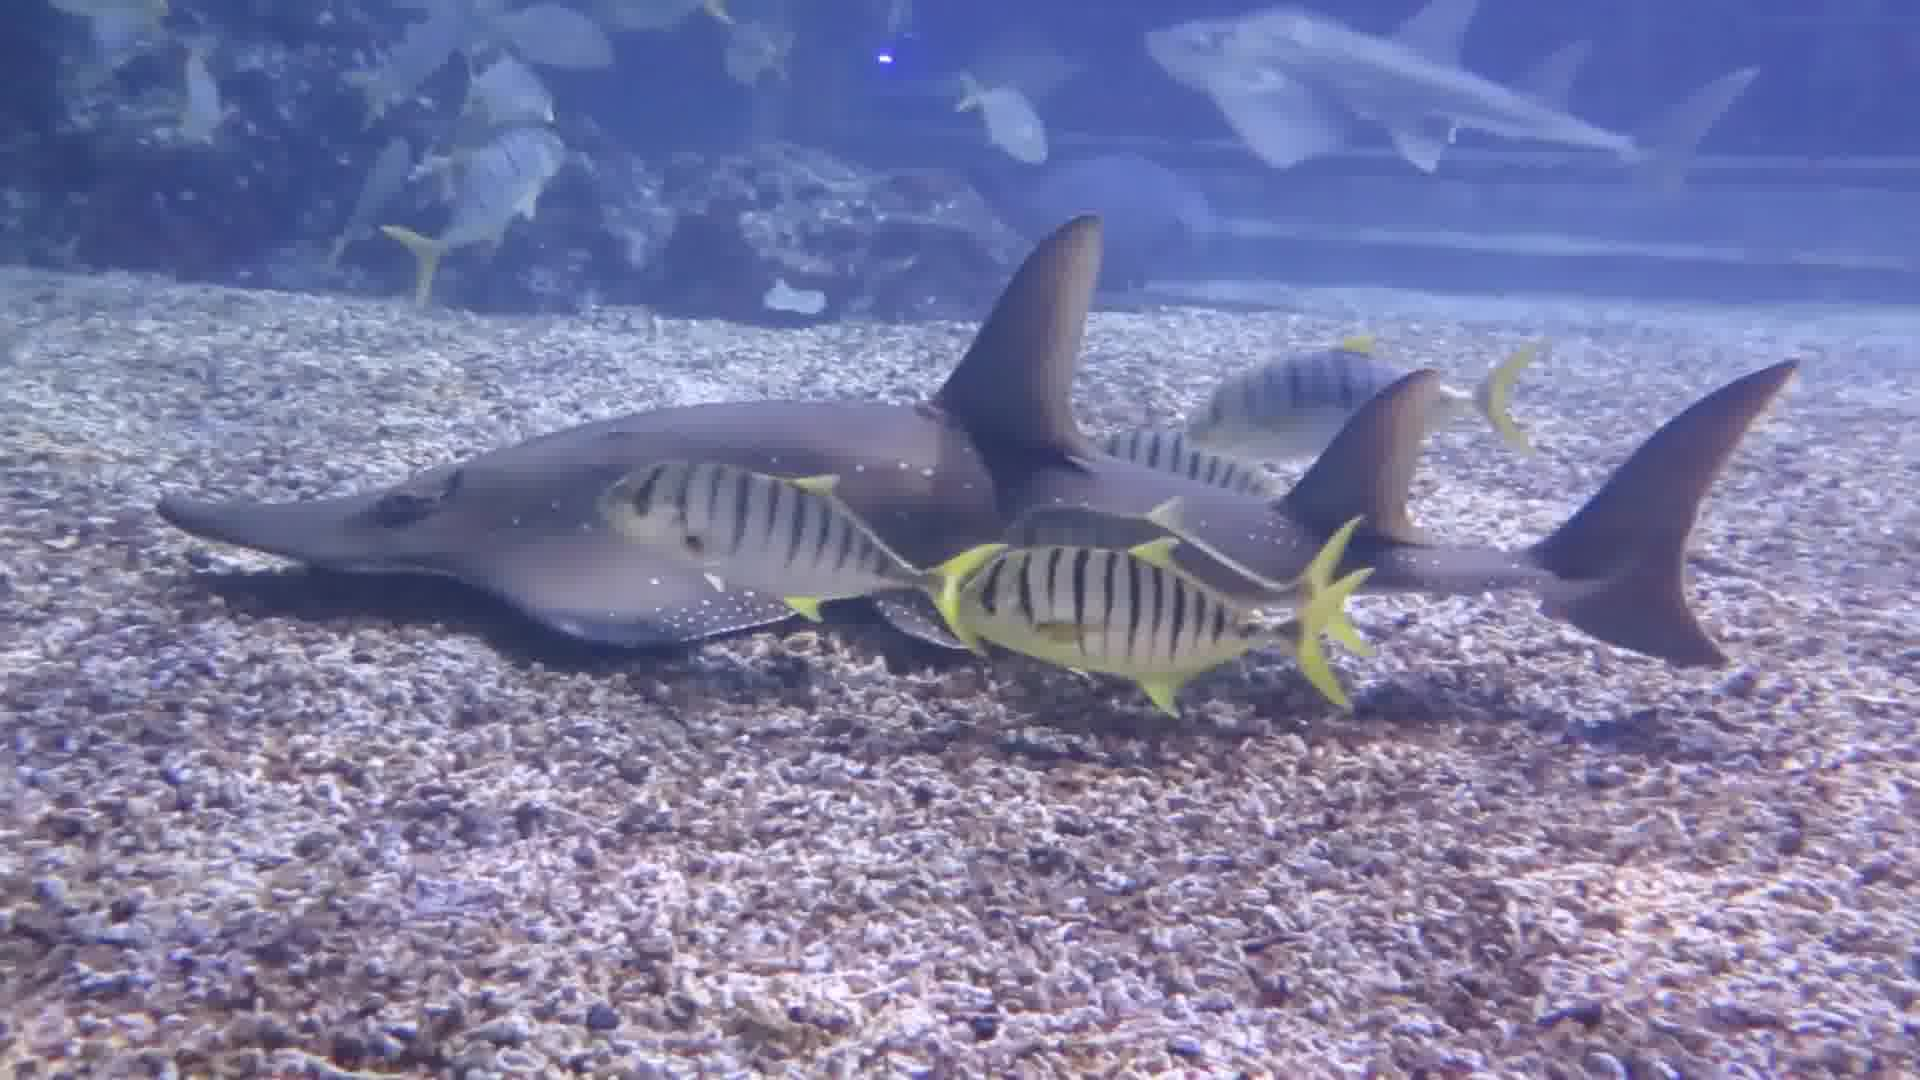Rhychobatus djiddensis: (113, 225, 1862, 733)
